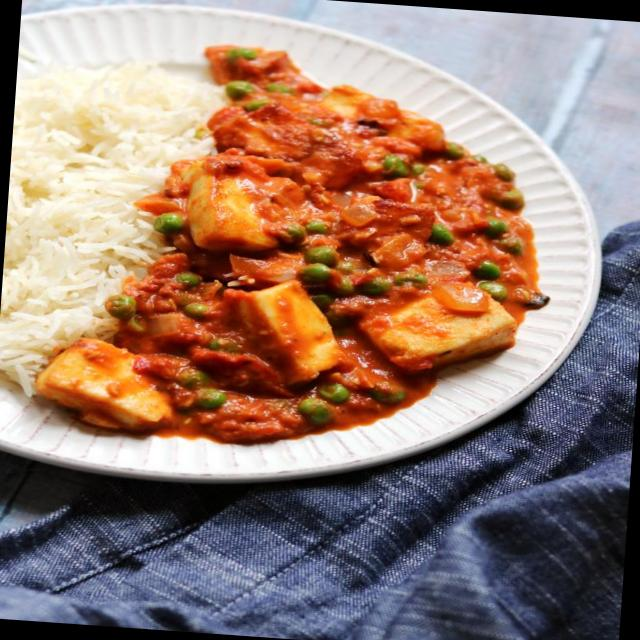rice: (2, 79, 136, 296)
